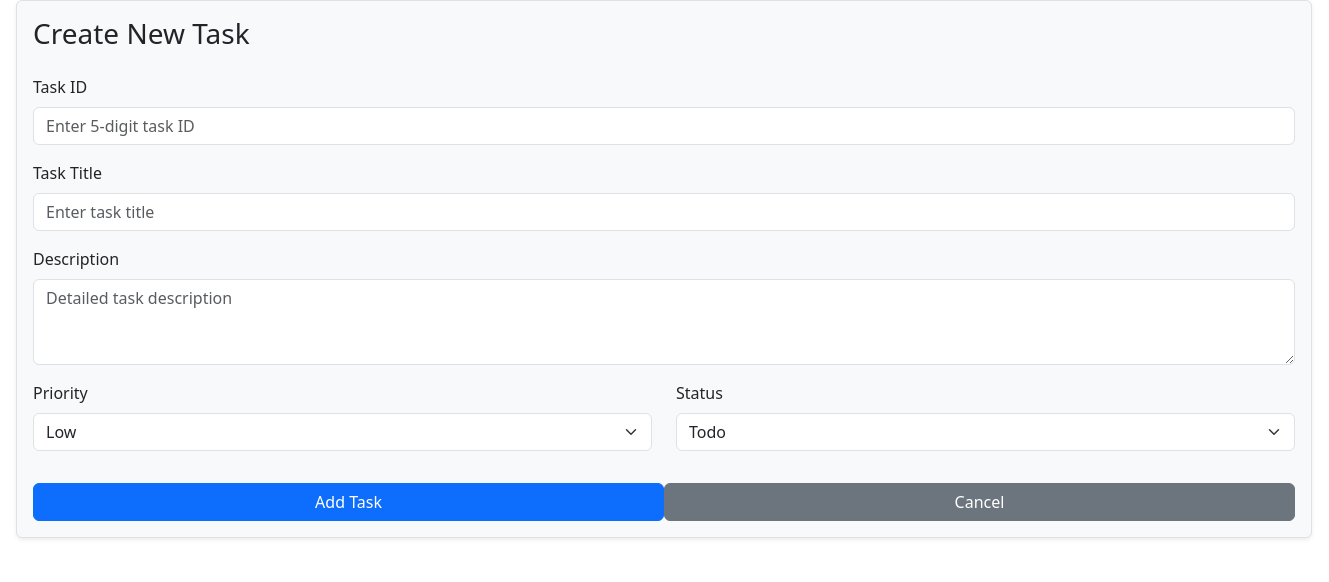
Test: TaskForm Component › shows validation error for short title
Type "12345" into the field with placeholder "Enter 5-digit task ID". click: (664, 126)
box: [33, 107, 1295, 145]
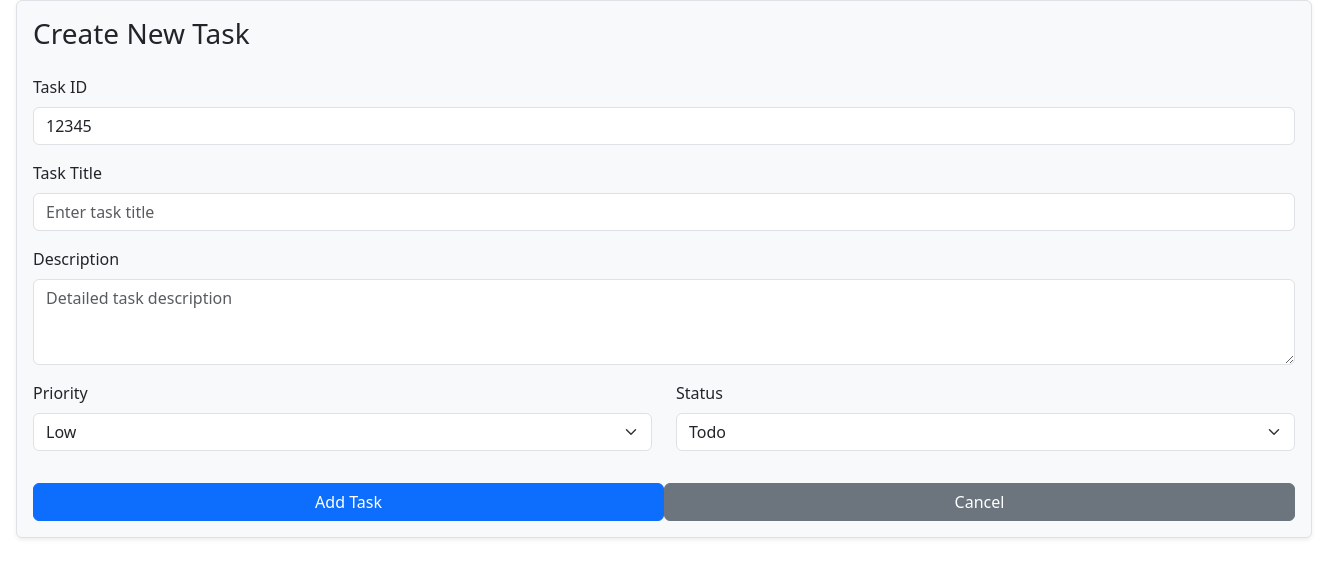
Type "ab" into the field with placeholder "Enter task title". click: (664, 212)
box: [33, 193, 1295, 231]
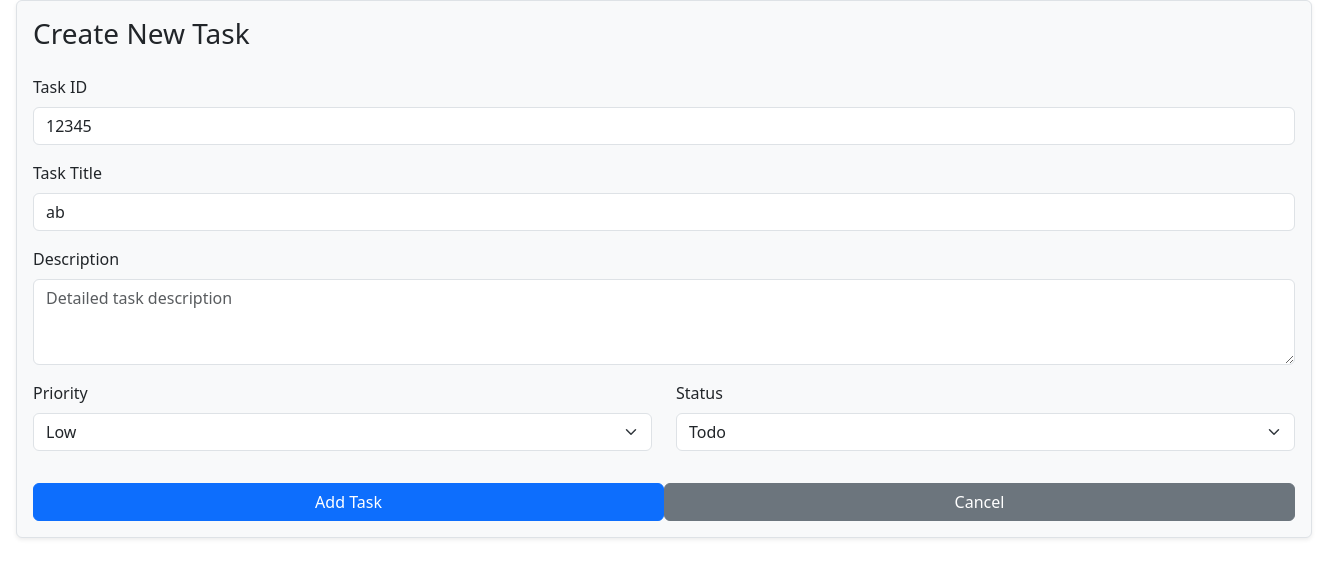
Click the button "Add Task". click: (348, 502)
box: [33, 483, 664, 521]
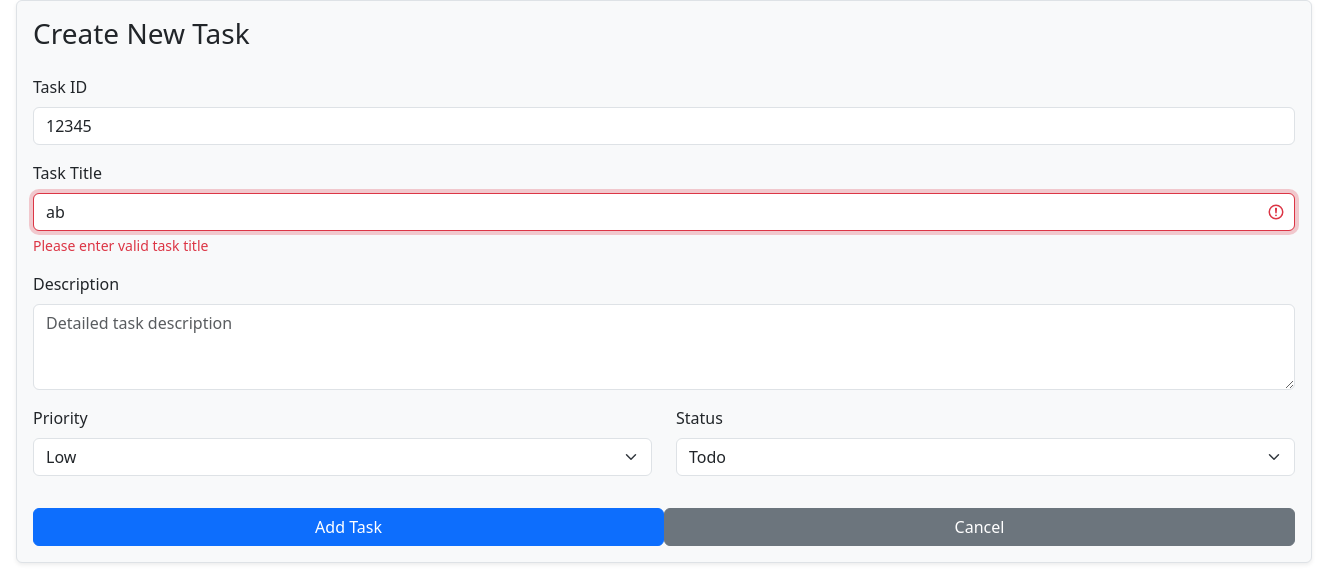
Now the text "Please enter valid task title" is shown, box [33, 236, 208, 255]
